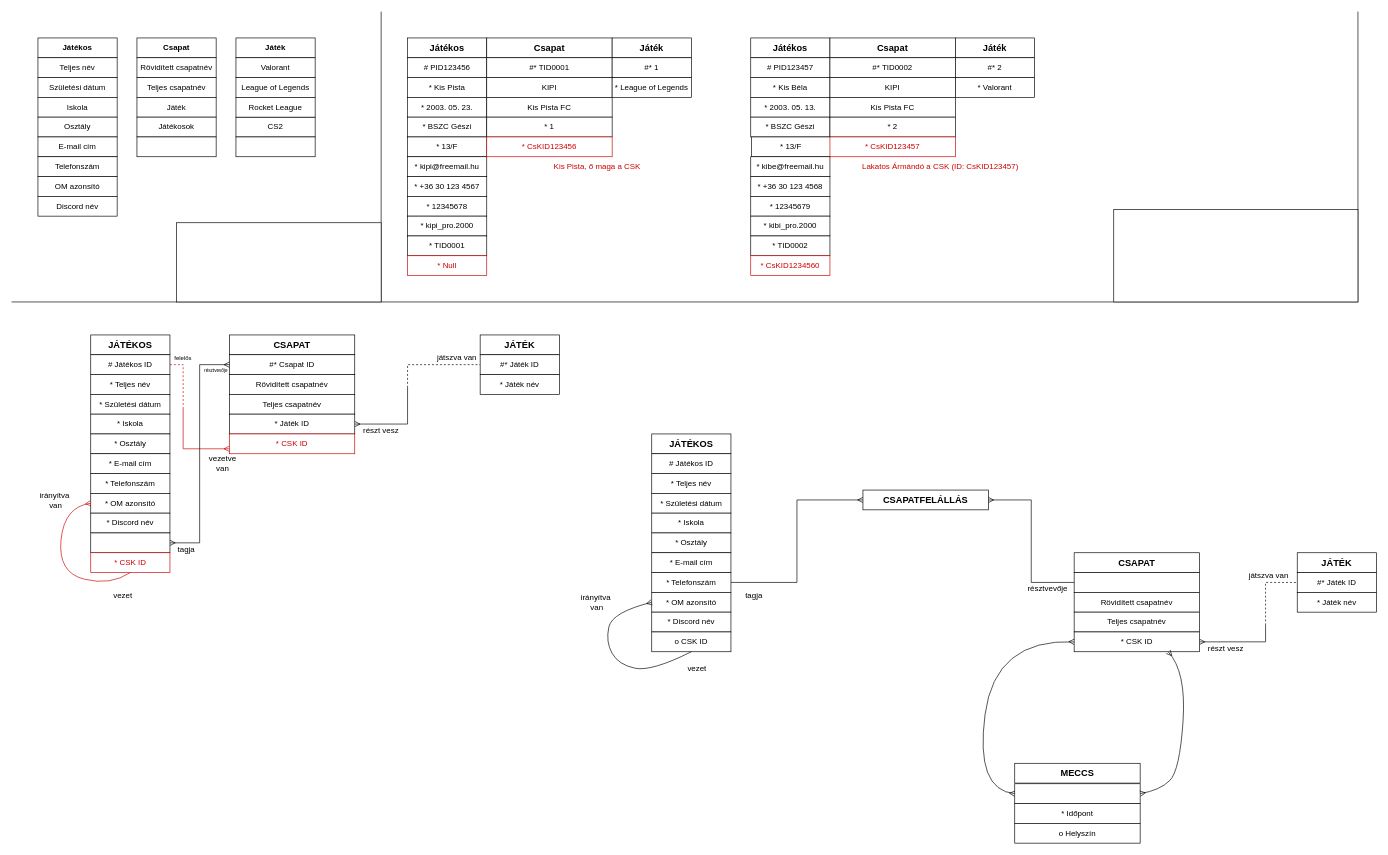
Some shapes in this 1388 by 855 pixel diagram are drawn without their labels. The centre of each missing label's shape, as x and y in pixels:
"# Csapat ID" goes at point 1136,582.
"* Csapat ID" goes at point 130,542.
"* Végeredmény" goes at point 1077,793.
"Egyedek" goes at point 278,262.
"Példa" goes at point 1235,255.
